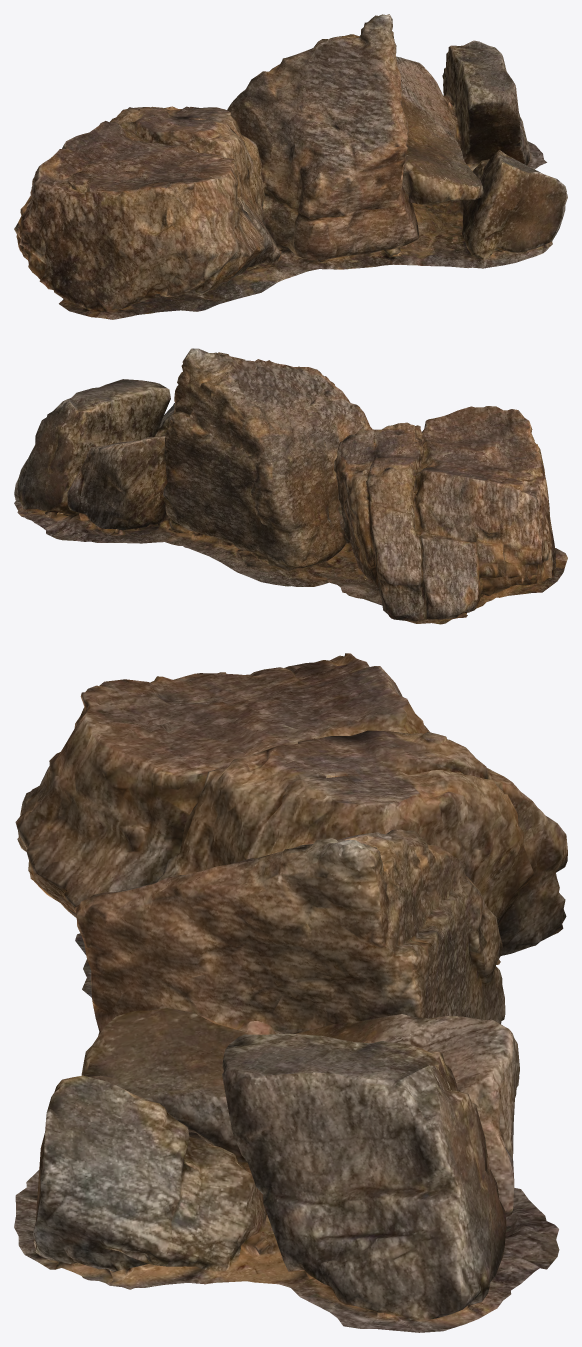
The model's file is namaqualand_boulder_02.glb.
3 renders of one model, top to bottom at view 1: azimuth 30°, elevation 25°; view 2: azimuth 150°, elevation 25°; view 3: azimuth 270°, elevation 25°, orthographic. The views are drawn at different scales.
Visible parts, largest first — view 1: boulder_02; view 2: boulder_02; view 3: boulder_02.
Part boxes in pixels (box(x1,y1,x2,y2)): boulder_02: box(14, 14, 567, 319); boulder_02: box(14, 348, 567, 624); boulder_02: box(14, 653, 567, 1332).
Bounding box in the file's own units: 2.53 × 0.8826 × 1.23.
1 material, 1 textured.
